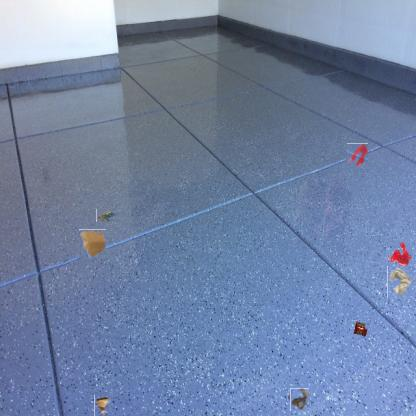dirty: (385, 268, 414, 297), (78, 230, 107, 258), (289, 389, 310, 410), (94, 394, 111, 416), (352, 318, 370, 338), (96, 208, 117, 222)
liquid: (388, 242, 410, 266), (346, 143, 368, 166)
